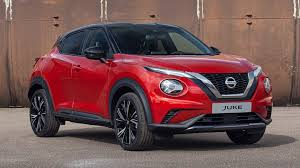Nissan: (36, 28, 270, 136)
